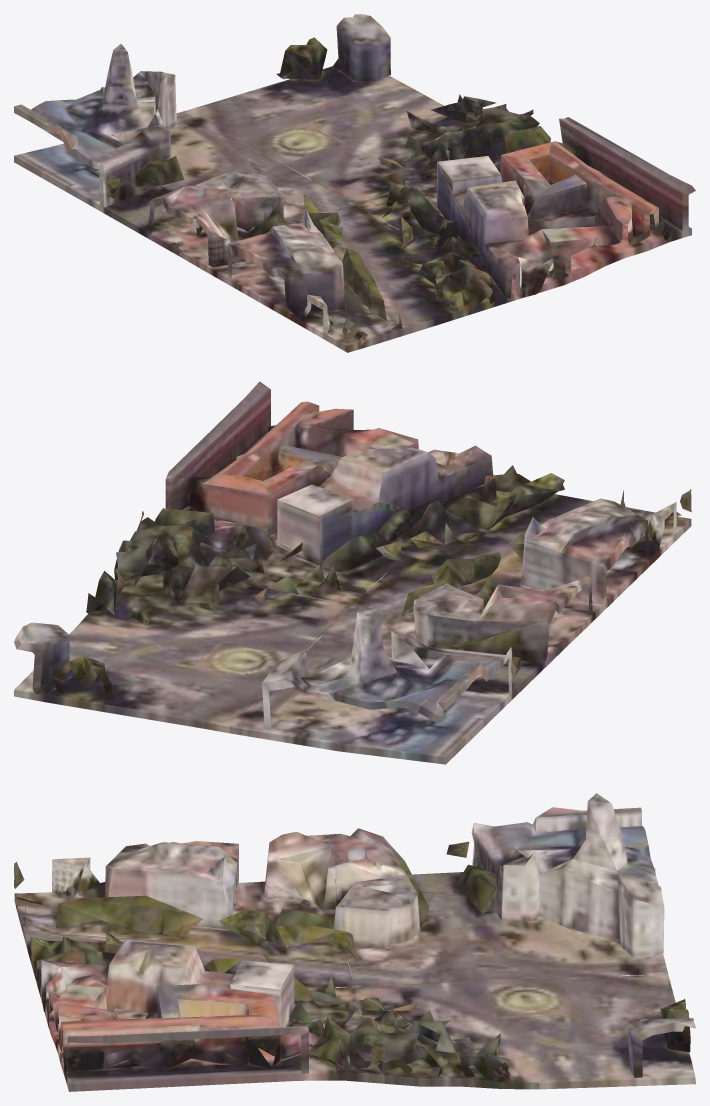
3 views of the same model, one above another, from view 1: azimuth 30°, elevation 25°; view 2: azimuth 150°, elevation 25°; view 3: azimuth 270°, elevation 25° (orthographic). The views are drawn at different scales.
Visible parts, largest first — view 1: Mesh_0; view 2: Mesh_0; view 3: Mesh_0.
Part boxes in pixels (x1,y1,x2,y2): Mesh_0: (14, 14, 695, 352); Mesh_0: (14, 381, 691, 764); Mesh_0: (14, 793, 695, 1091).
Bounding box in the file's own units: 269 × 70.7 × 330.
Materials: 2 (2 with a texture image).
